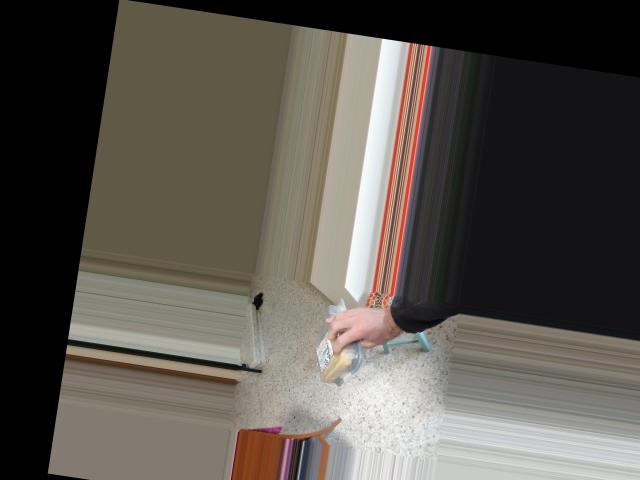cheese: (309, 319, 360, 389)
